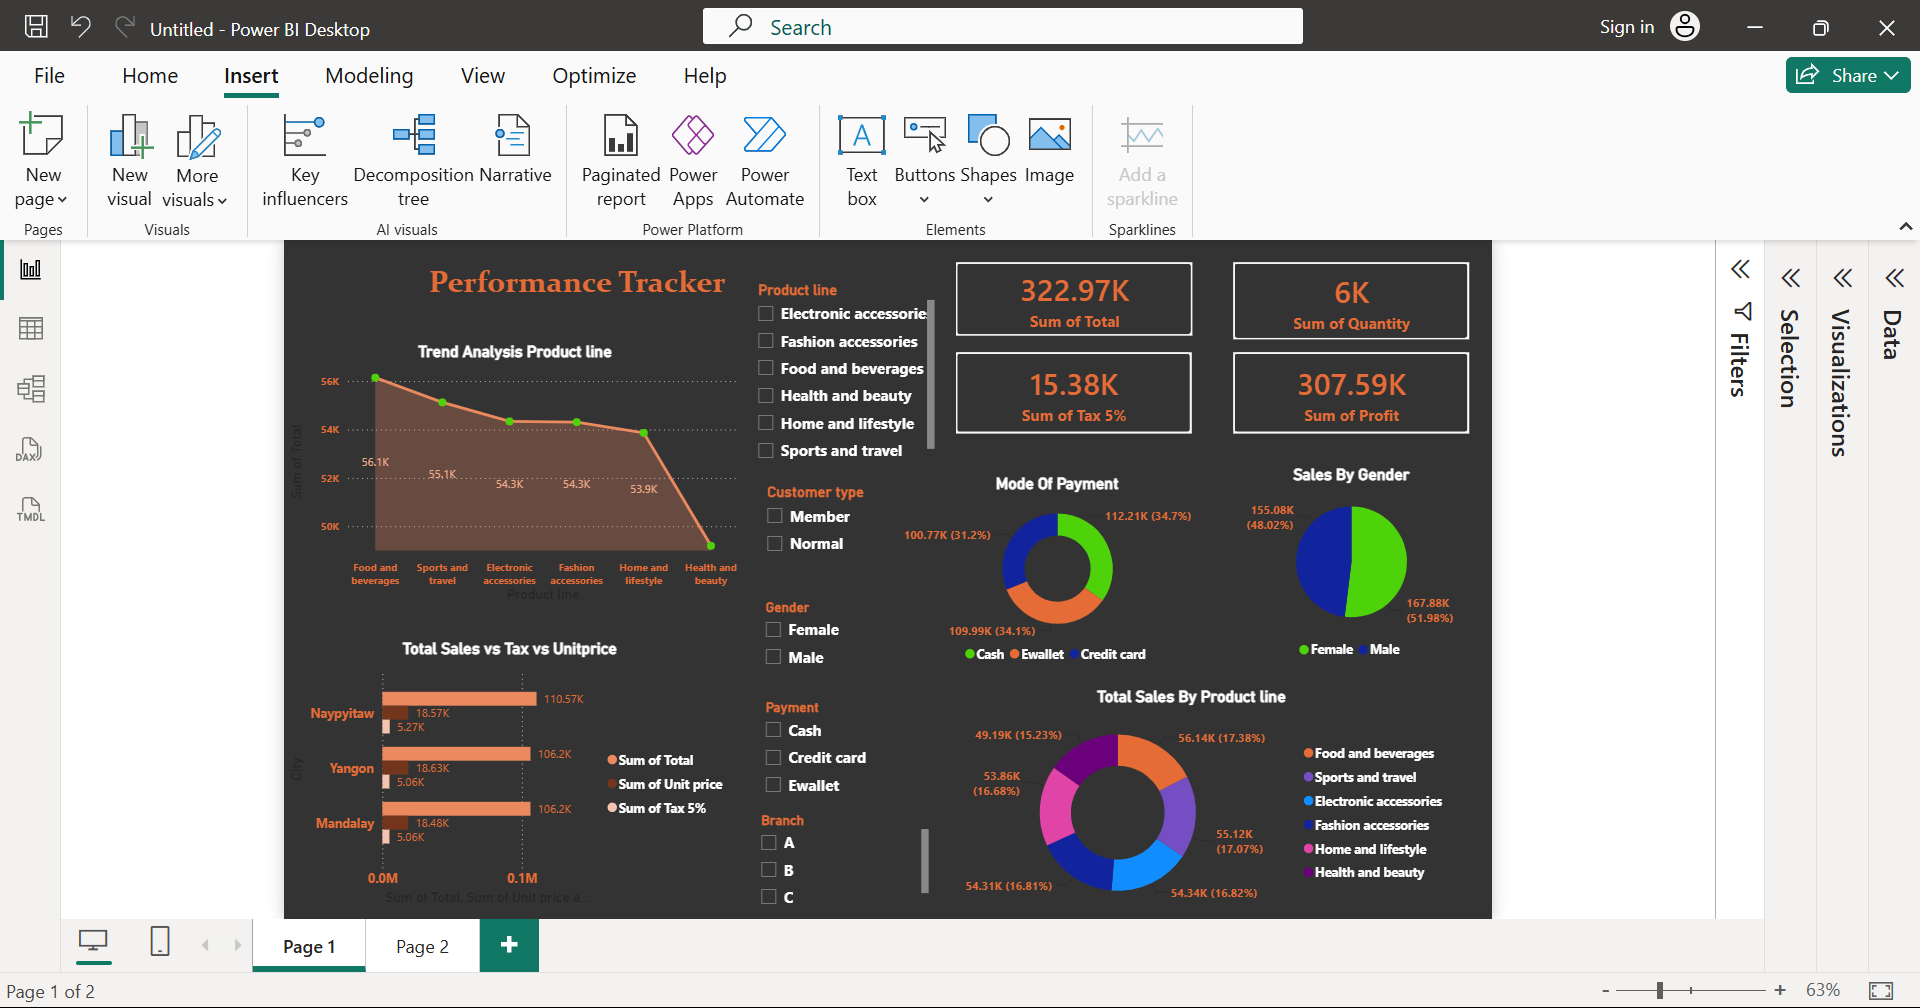

This screenshot's page, from the dashboard's own definition file:
{"tool":"powerbi","page":{"name":"Page 1","canvas":[1280,720],"ordinal":0},"visuals":[{"type":"cardVisual","fields":{"Data":["Sum(dataset.Total)"]},"box":[712.5,23.1,250.4,77],"z":0},{"type":"cardVisual","fields":{"Data":["Sum(dataset.Tax 5%)"]},"box":[712.6,119.3,249.7,85.9],"z":1000},{"type":"cardVisual","fields":{"Data":["Sum(dataset.Profit)"]},"box":[1006.9,119.3,249.7,85.9],"z":2000},{"type":"cardVisual","fields":{"Data":["Sum(dataset.Quantity)"]},"box":[1006.9,23.9,249.7,81.1],"z":3000},{"type":"donutChart","title":"Mode Of Payment","fields":{"Category":["dataset.Payment"],"Y":["Sum(dataset.Total)"]},"box":[655.3,248.1,329.3,210],"z":4000},{"type":"pieChart","title":"Sales By Gender","fields":{"Category":["dataset.Gender"],"Y":["Sum(dataset.Total)"]},"box":[998.9,238.6,265.6,214.7],"z":5000},{"type":"donutChart","title":"Total Sales By Product line","fields":{"Category":["dataset.Product line"],"Y":["Sum(dataset.Total)"]},"box":[682.4,474,559.9,246.5],"z":6000},{"type":"clusteredBarChart","title":"Total Sales vs Tax vs Unitprice","fields":{"Category":["dataset.City"],"Y":["Sum(dataset.Total)","Sum(dataset.Unit price)","Sum(dataset.Tax 5%)"]},"box":[0,423.1,478.8,286.3],"z":7000},{"type":"stackedAreaChart","title":"Trend Analysis Product line","fields":{"Category":["dataset.Product line"],"Y":["Sum(dataset.Total)"]},"box":[0,108.2,489.9,279.9],"z":8000},{"type":"slicer","fields":{"Values":["dataset.Product line"]},"box":[489.9,38.2,205.2,200.4],"z":9000},{"type":"slicer","fields":{"Values":["dataset.Customer type"]},"box":[499.5,252.9,205.2,93.8],"z":10000},{"type":"slicer","fields":{"Values":["dataset.Gender"]},"box":[497.9,375.4,195.6,95.4],"z":11000},{"type":"slicer","fields":{"Values":["dataset.Payment"]},"box":[497.9,482,195.6,119.3],"z":12000},{"type":"slicer","fields":{"Values":["dataset.Branch"]},"box":[493.1,601.3,195.6,108.2],"z":13000},{"type":"textbox","box":[19.1,19.1,583.8,81.1],"z":14000}]}

Visuals, with their boxes on the page's 1280x720 design canvas (x1, y1, x2, y2). These are canvas units, not pixel positions in the 1920x1008 screenshot, which may show the page scaled, cropped or inside an application window:
cardVisual - Sum(dataset.Total): l=712, t=23, r=963, b=100
cardVisual - Sum(dataset.Tax 5%): l=713, t=119, r=962, b=205
cardVisual - Sum(dataset.Profit): l=1007, t=119, r=1257, b=205
cardVisual - Sum(dataset.Quantity): l=1007, t=24, r=1257, b=105
"Mode Of Payment" donutChart: l=655, t=248, r=985, b=458
"Sales By Gender" pieChart: l=999, t=239, r=1264, b=453
"Total Sales By Product line" donutChart: l=682, t=474, r=1242, b=720
"Total Sales vs Tax vs Unitprice" clusteredBarChart: l=0, t=423, r=479, b=709
"Trend Analysis Product line" stackedAreaChart: l=0, t=108, r=490, b=388
slicer - dataset.Product line: l=490, t=38, r=695, b=239
slicer - dataset.Customer type: l=500, t=253, r=705, b=347
slicer - dataset.Gender: l=498, t=375, r=694, b=471
slicer - dataset.Payment: l=498, t=482, r=694, b=601
slicer - dataset.Branch: l=493, t=601, r=689, b=710
textbox: l=19, t=19, r=603, b=100
